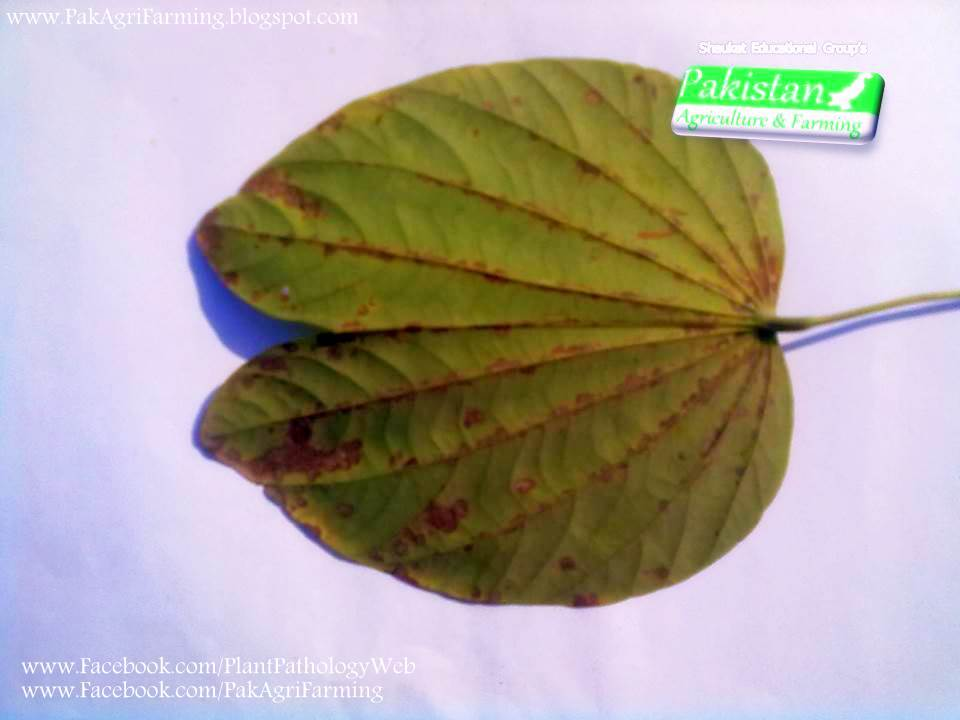unhealthy: (166, 47, 824, 641)
